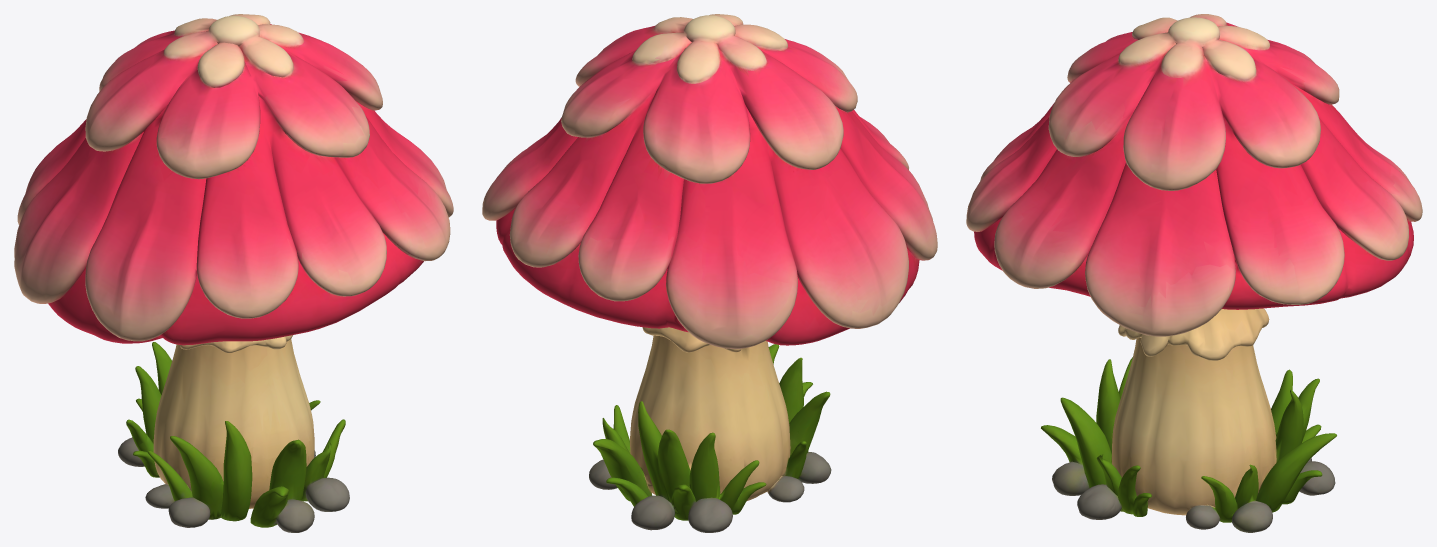
The model's file is shroom_pink.glb.
3 renders of one model, left to right at view 1: azimuth 30°, elevation 25°; view 2: azimuth 150°, elevation 25°; view 3: azimuth 270°, elevation 25°, orthographic.
Visible parts, largest first — view 1: tripo_node_eca8ebae-9043-4f51-a3df-da58bef8e393; view 2: tripo_node_eca8ebae-9043-4f51-a3df-da58bef8e393; view 3: tripo_node_eca8ebae-9043-4f51-a3df-da58bef8e393.
Part boxes in pixels (bbox=[...]): tripo_node_eca8ebae-9043-4f51-a3df-da58bef8e393: bbox=[14, 14, 453, 532]; tripo_node_eca8ebae-9043-4f51-a3df-da58bef8e393: bbox=[482, 14, 937, 532]; tripo_node_eca8ebae-9043-4f51-a3df-da58bef8e393: bbox=[966, 14, 1422, 532].
Size of the model in its own units: 1.31 by 1.5 by 1.33.
1 material, 1 textured.
